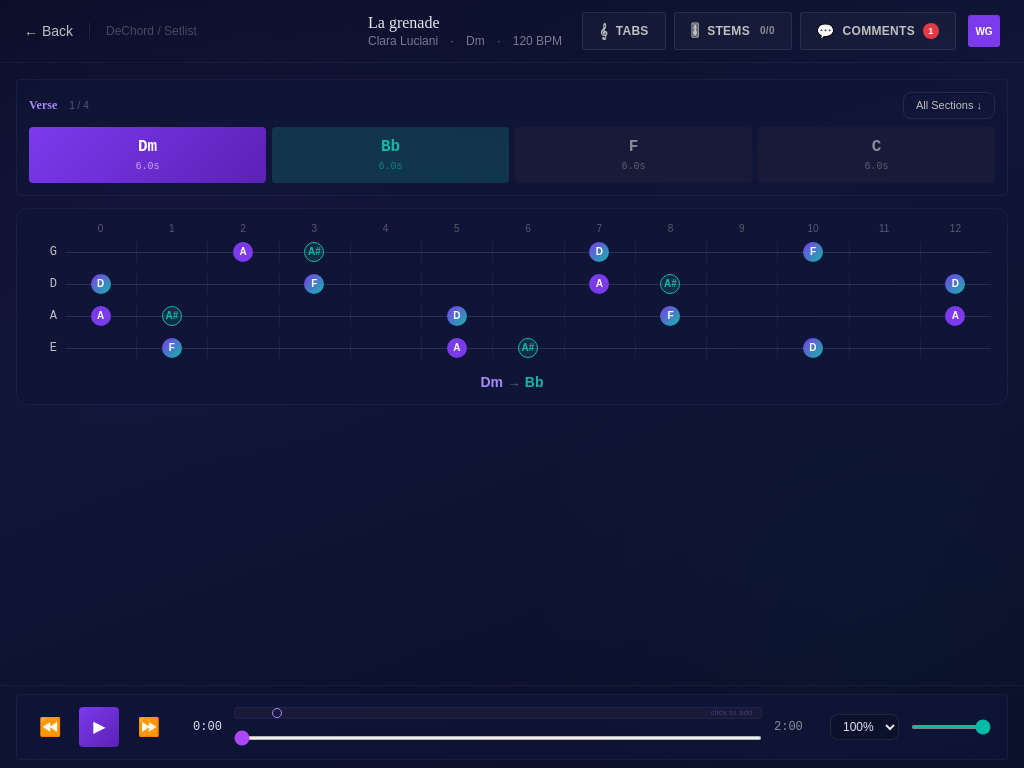
it: PlayerPage › suppresses note mutation actions when no handlers are wired
Click the button "💬 Comments 1" at (878, 31), box [800,12,956,50]
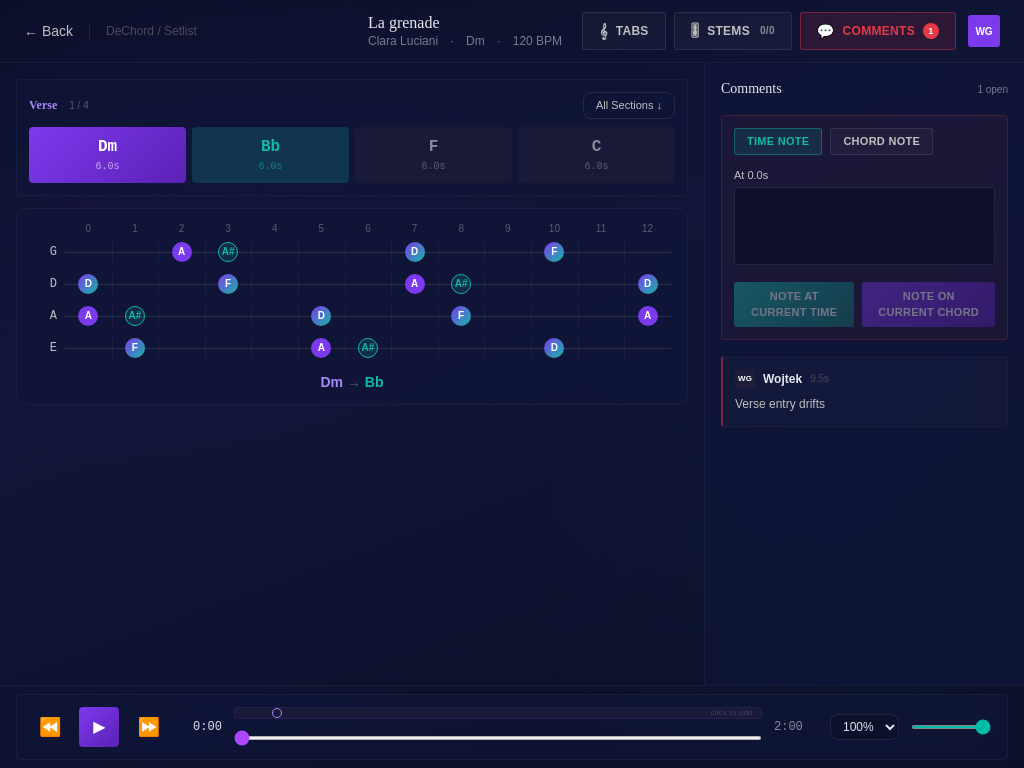
Now the button "Note at current time" is disabled, box [734,282,854,326]
Now the button "Note on current chord" is disabled, box [862,282,995,326]
